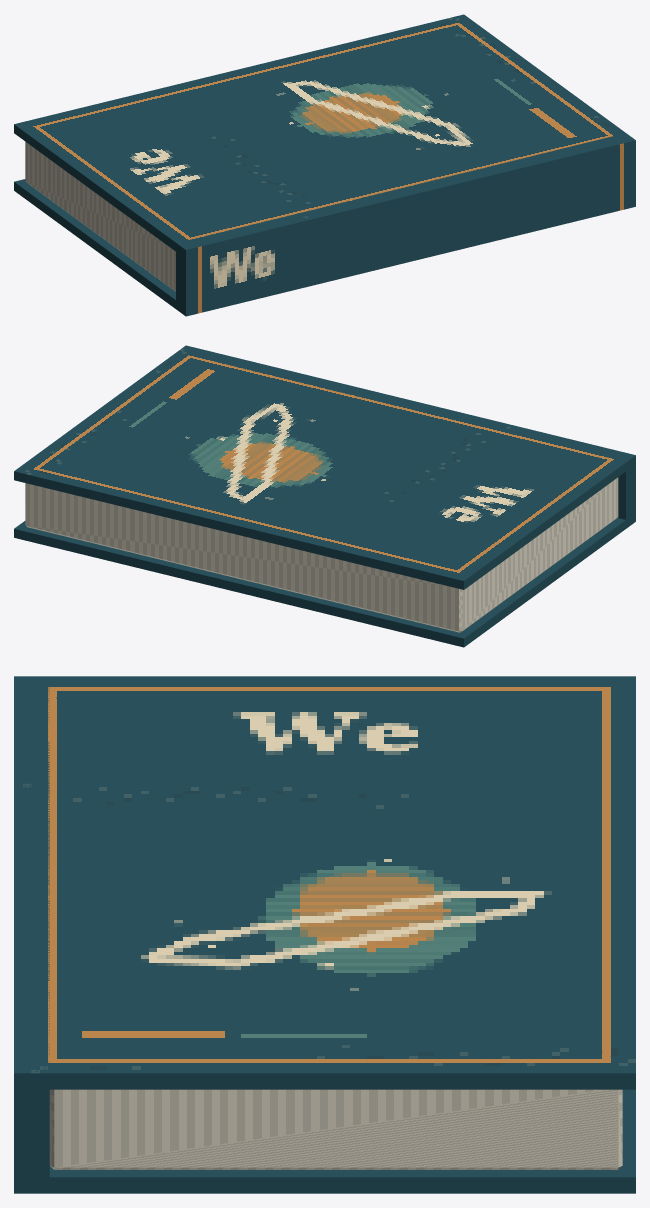
Rendered from book_fict_hard_scifi_zamwe.glb.
The picture shows the model from 3 angles, top to bottom: view 1: azimuth 30°, elevation 25°; view 2: azimuth 150°, elevation 25°; view 3: azimuth 270°, elevation 25°; orthographic projection. The views are drawn at different scales.
Parts seen in each view (by area): view 1: block_front, block_spine, block_pages, block_back; view 2: block_front, block_pages, block_back, block_spine; view 3: block_front, block_pages, block_back, block_spine.
Part boxes in pixels (x1=…): block_front: x1=14, y1=14, x2=625, y2=256; block_spine: x1=176, y1=133, x2=635, y2=316; block_pages: x1=25, y1=142, x2=175, y2=291; block_back: x1=14, y1=179, x2=183, y2=313; block_front: x1=14, y1=347, x2=633, y2=589; block_pages: x1=25, y1=477, x2=618, y2=632; block_back: x1=14, y1=514, x2=633, y2=647; block_spine: x1=177, y1=345, x2=635, y2=522; block_front: x1=23, y1=676, x2=635, y2=1089; block_pages: x1=49, y1=1089, x2=622, y2=1169; block_back: x1=23, y1=1089, x2=635, y2=1193; block_spine: x1=14, y1=676, x2=49, y2=1193.
Bounding box in the file's own units: 0.23 × 0.0325 × 0.1522.
1 material, 1 textured.
